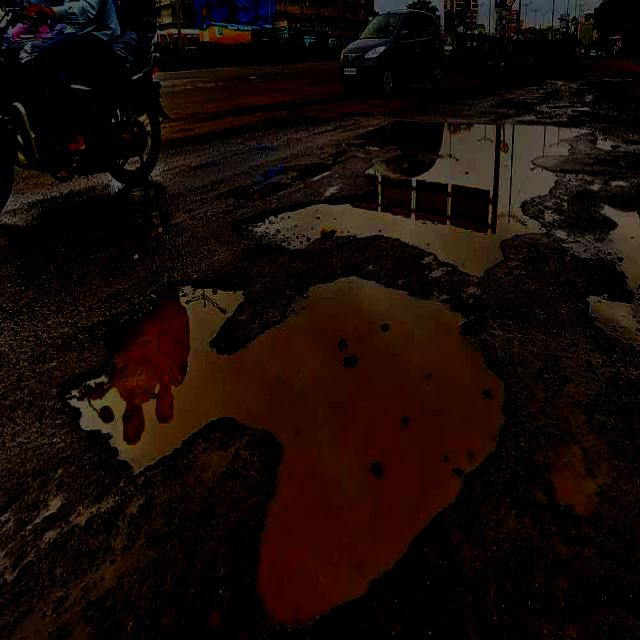Pothole: (42, 241, 526, 637), (219, 104, 640, 329)
